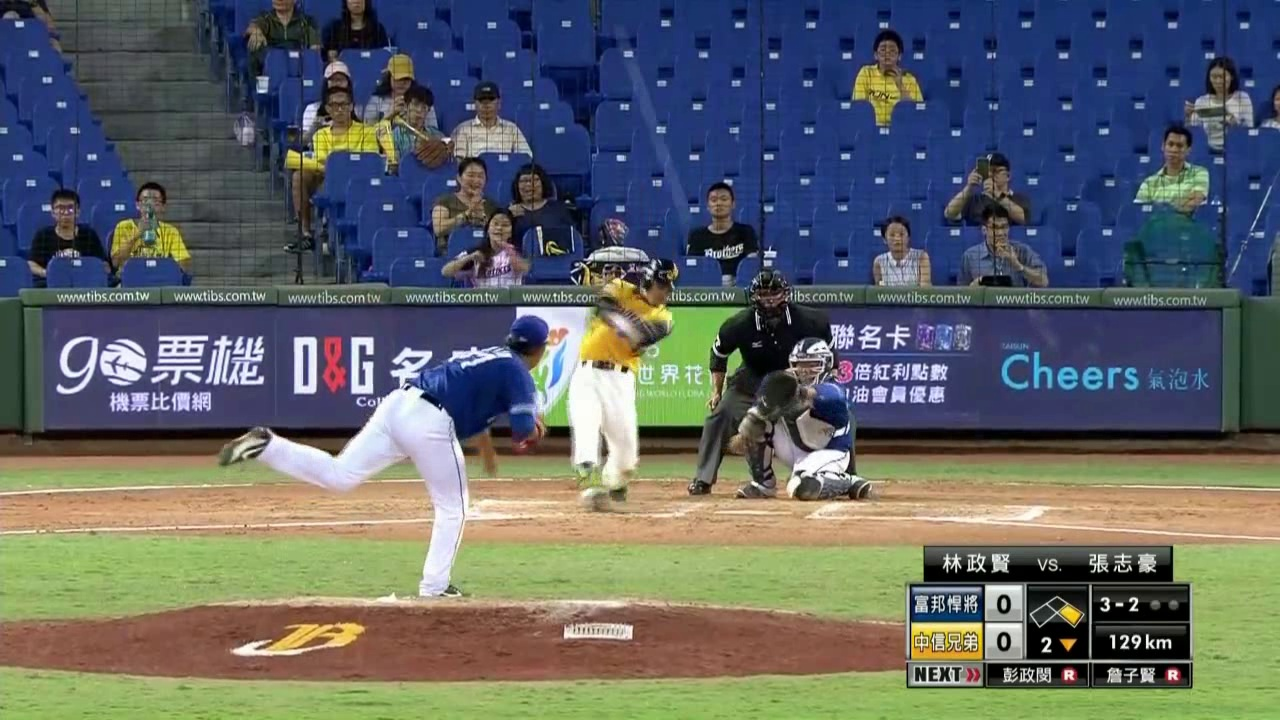ball: (634, 91, 653, 108)
base: (1028, 590, 1087, 629)
out: (1144, 588, 1187, 620)
score1: (987, 585, 1019, 617)
score2: (988, 623, 1021, 656)
session: (1026, 631, 1091, 658)
speed: (1094, 628, 1181, 657)
strikeball: (1093, 588, 1143, 621)
